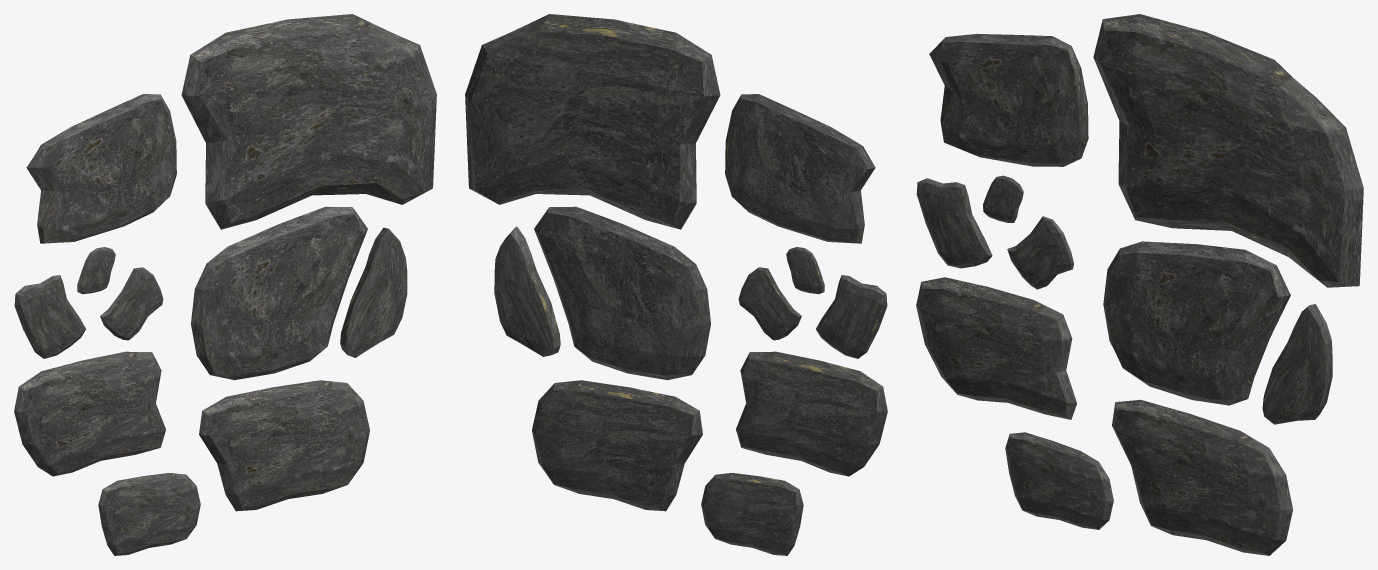
The model's file is Camino de piedras.fbx.
The picture shows the model from 3 angles, left to right: view 1: azimuth 30°, elevation 25°; view 2: azimuth 150°, elevation 25°; view 3: azimuth 330°, elevation 25°; orthographic projection. The views are drawn at different scales.
Parts seen in each view (by area): view 1: Cube.006; view 2: Cube.006; view 3: Cube.006.
Boxes of the visible parts, x1=… form: Cube.006: x1=14, y1=14, x2=436, y2=555; Cube.006: x1=465, y1=14, x2=887, y2=555; Cube.006: x1=916, y1=14, x2=1363, y2=555.
Size of the model in its own units: 2.37 by 2.67 by 0.1791.
